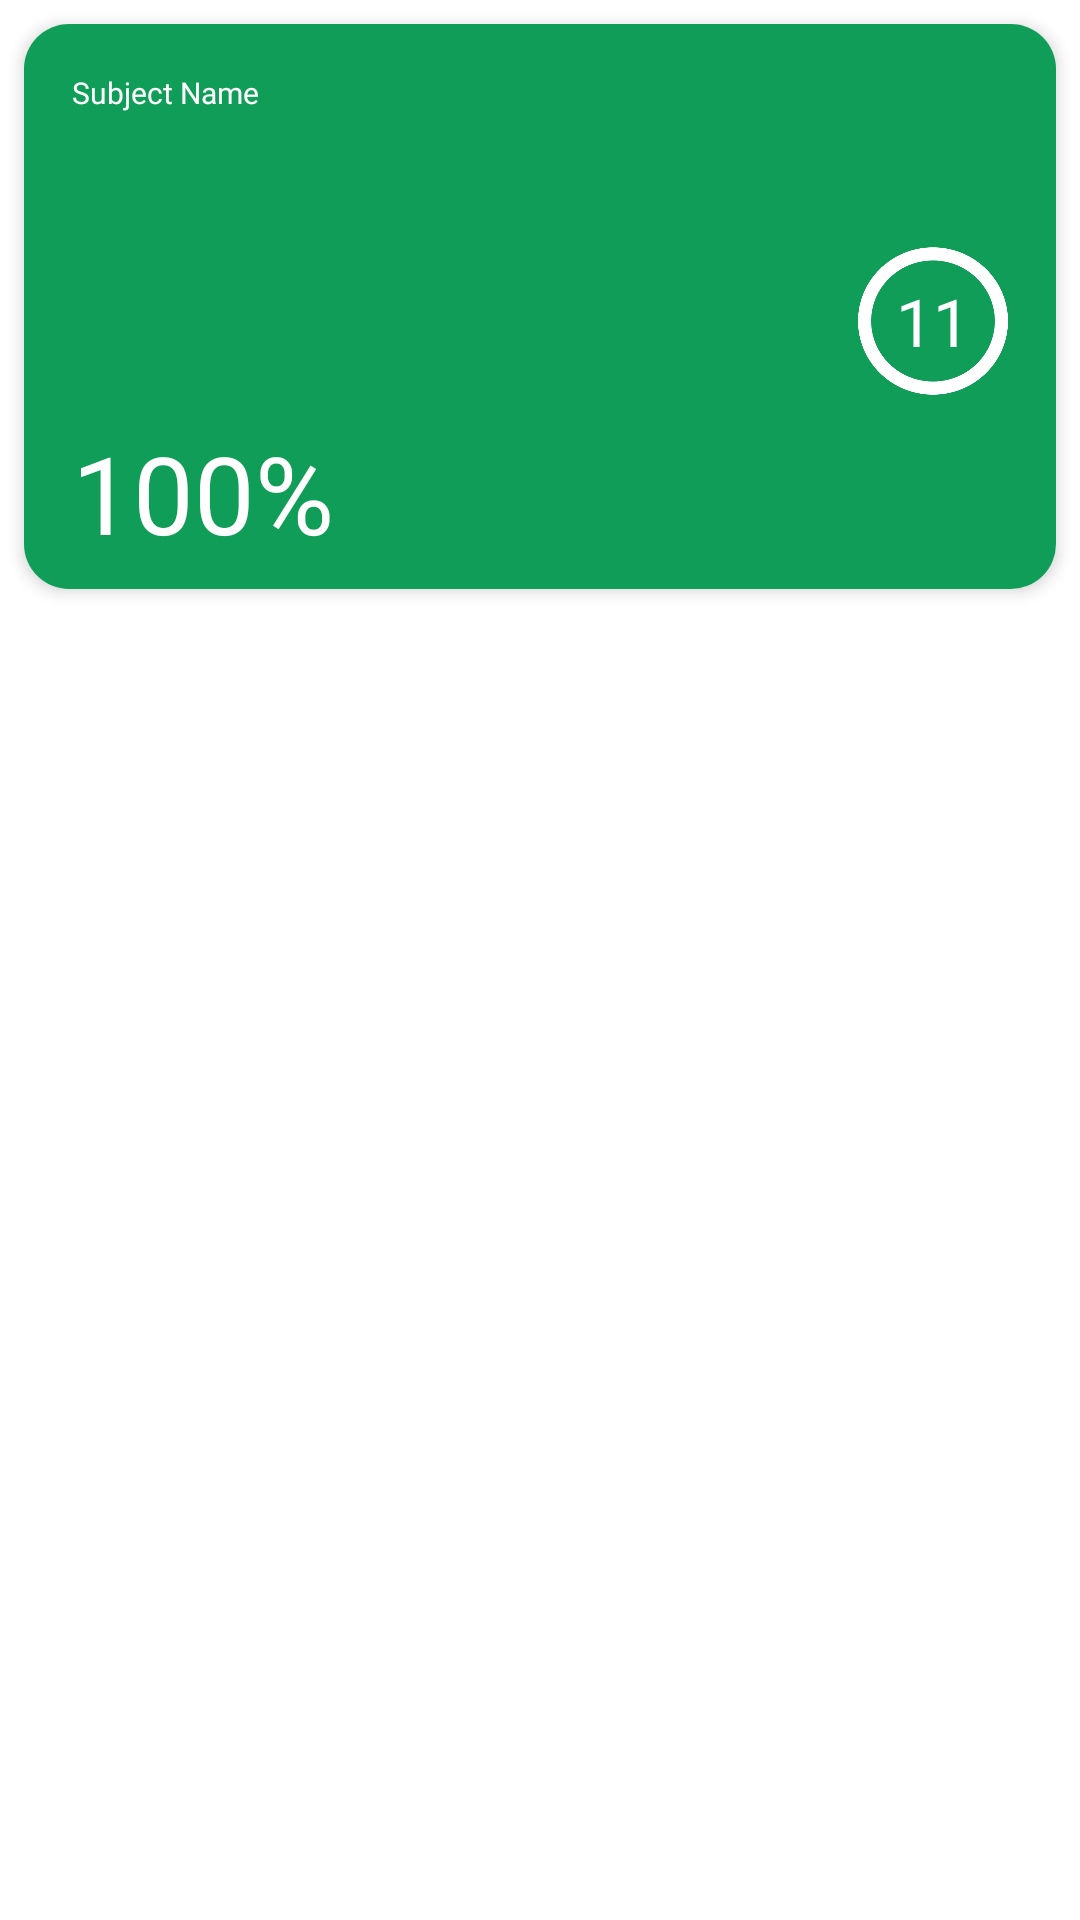

Screen size 1080×1920. Icon name, then its center in pixels as (x,y):
ring: (933,321)
